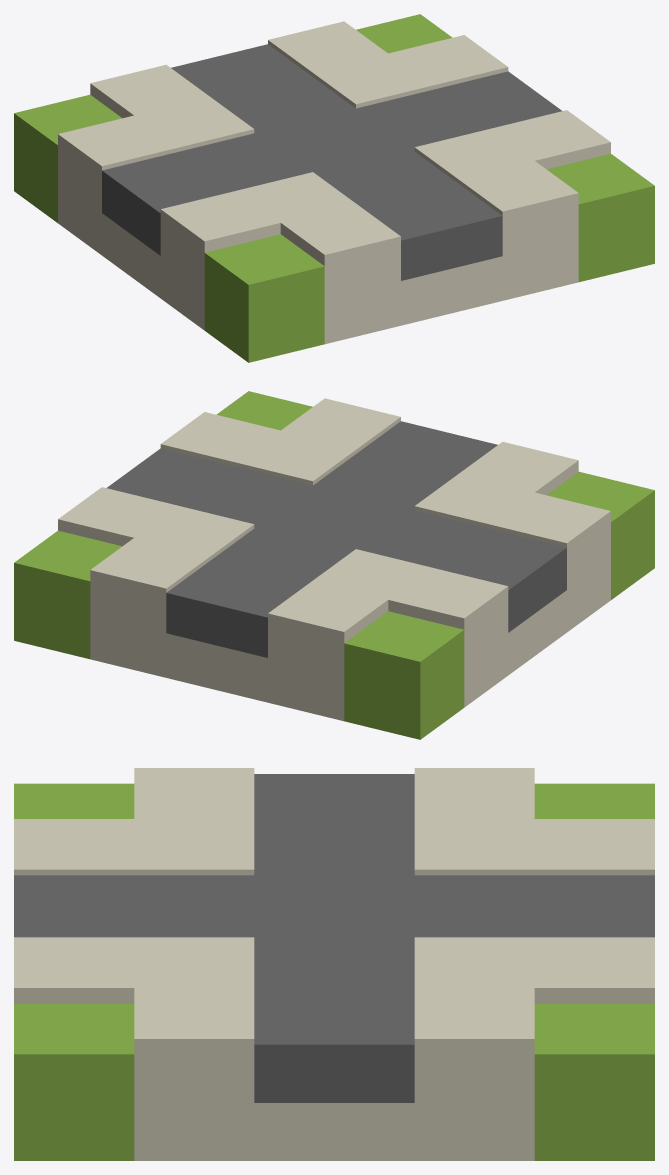
Rendered from tile013.dae.
3 views of the same model, one above another, from view 1: azimuth 30°, elevation 25°; view 2: azimuth 150°, elevation 25°; view 3: azimuth 270°, elevation 25° (orthographic). The views are drawn at different scales.
Parts seen in each view (by area): view 1: tile013; view 2: tile013; view 3: tile013.
Part boxes in pixels (<box>): tile013: <box>14,14,654,362</box>; tile013: <box>14,391,654,739</box>; tile013: <box>14,768,654,1160</box>.
Bounding box in the file's own units: 1 × 0.21 × 1.
